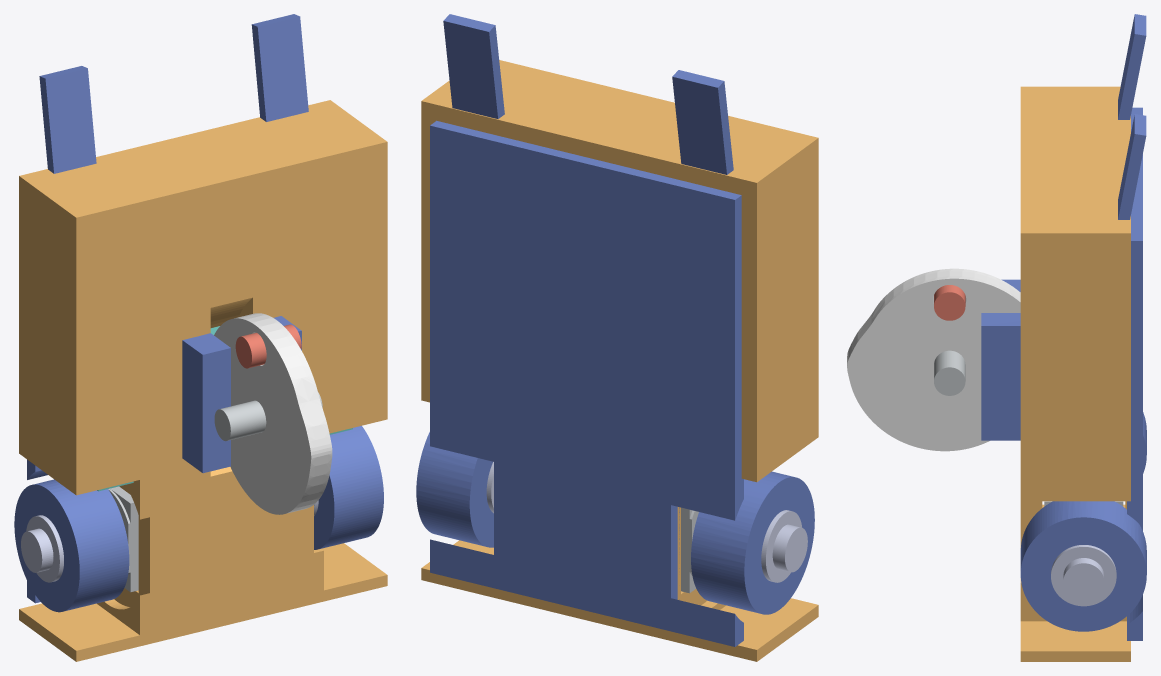
Rendered from smashie_tip.glb.
3 views of the same model, side by side, from view 1: azimuth 30°, elevation 25°; view 2: azimuth 150°, elevation 25°; view 3: azimuth 270°, elevation 25° (orthographic). The views are drawn at different scales.
Parts seen in each view (by area): view 1: chassis, weapon, wheel_r0, wheel_l0, disc_post_a, fork_1, fork_0, dt_hub_wheel_r0, dt_shaft_weapon, lock_pin, dm_wheel_r0, dm_wheel_l0; view 2: base_plate, chassis, wheel_r0, wheel_l0, fork_1, fork_0, dt_hub_wheel_r0, dm_wheel_r0; view 3: chassis, weapon, wheel_l0, disc_post_b, base_plate, dt_hub_wheel_l0, fork_0, fork_1, dt_shaft_weapon, lock_pin.
Part boxes in pixels (x1,y1,x2,y2): chassis: [19, 100, 387, 661]; weapon: [214, 313, 332, 514]; wheel_r0: [14, 479, 129, 612]; wheel_l0: [314, 425, 383, 549]; disc_post_a: [182, 333, 230, 473]; fork_1: [251, 14, 308, 121]; fork_0: [39, 66, 96, 173]; dt_hub_wheel_r0: [21, 515, 63, 582]; dt_shaft_weapon: [214, 392, 322, 441]; lock_pin: [235, 324, 301, 368]; dm_wheel_r0: [110, 486, 138, 592]; dm_wheel_l0: [108, 488, 138, 575]; base_plate: [430, 120, 743, 646]; chassis: [421, 60, 818, 661]; wheel_r0: [691, 471, 814, 614]; wheel_l0: [416, 432, 493, 547]; fork_1: [443, 14, 504, 118]; fork_0: [672, 70, 733, 174]; dt_hub_wheel_r0: [761, 510, 807, 582]; dm_wheel_r0: [681, 507, 695, 593]; chassis: [1020, 86, 1130, 661]; weapon: [847, 268, 1020, 451]; wheel_l0: [1020, 501, 1146, 631]; disc_post_b: [981, 313, 1020, 440]; base_plate: [1127, 107, 1142, 640]; dt_hub_wheel_l0: [1051, 545, 1116, 606]; fork_0: [1118, 14, 1146, 119]; fork_1: [1118, 114, 1146, 219]; dt_shaft_weapon: [934, 350, 965, 395]; lock_pin: [934, 285, 965, 320].
Bounding box in the file's own units: 47.4 × 72.02 × 38.02.
